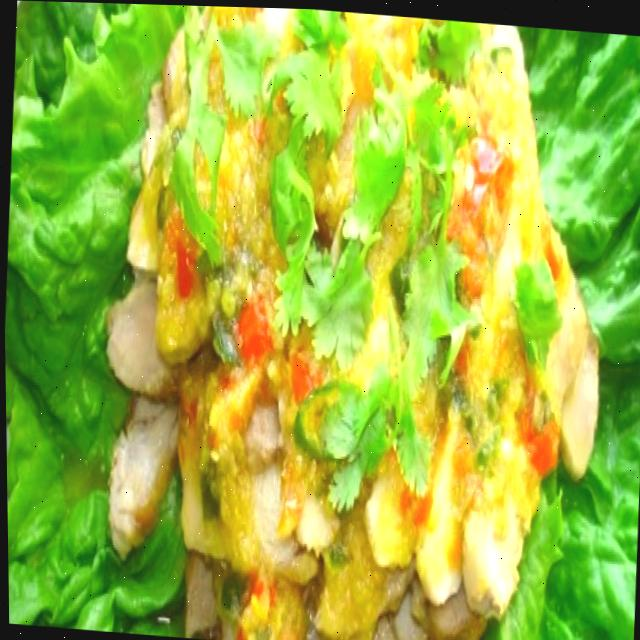猪肉菜式: (29, 1, 640, 640)
